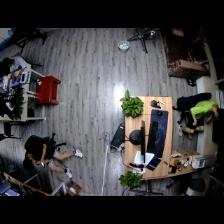normal: (18, 135, 86, 179), (176, 100, 224, 141), (2, 53, 34, 82)
